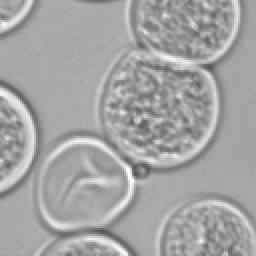picoshell: (96, 50, 218, 168), (34, 134, 134, 232), (130, 0, 240, 62), (154, 194, 254, 254), (0, 82, 36, 194), (44, 232, 132, 254)
